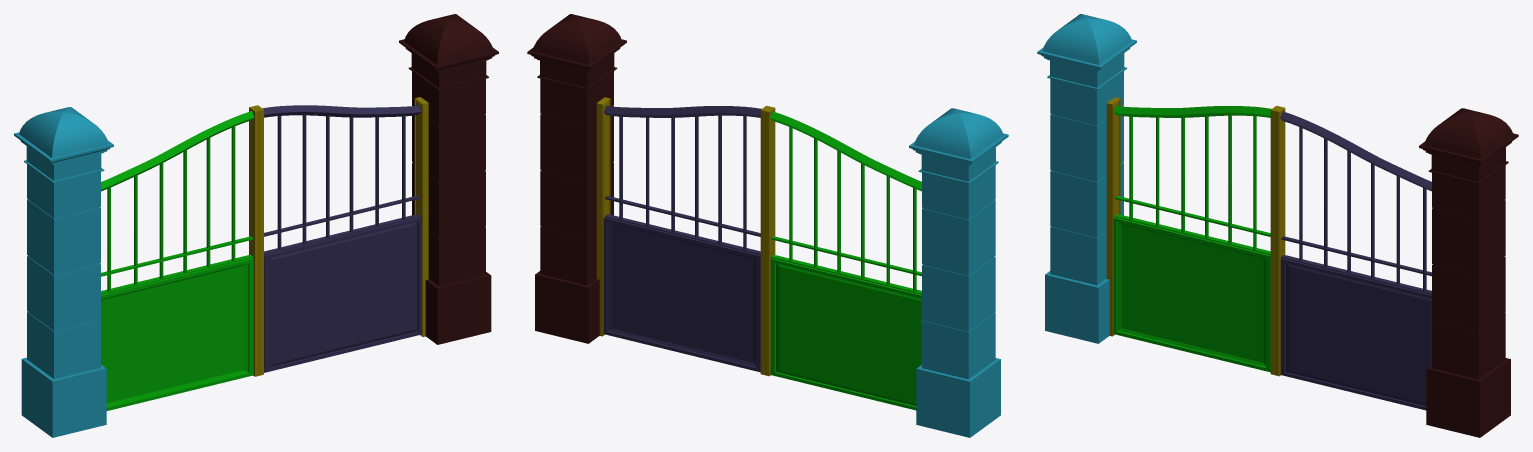
The picture shows the model from 3 angles, left to right: view 1: azimuth 30°, elevation 25°; view 2: azimuth 150°, elevation 25°; view 3: azimuth 330°, elevation 25°; orthographic projection.
Visible parts, largest first — view 1: RightPart, LeftPillar, LeftPart, RightPillar, Pivot (×2); view 2: LeftPillar, RightPart, LeftPart, RightPillar, Pivot (×2); view 3: RightPillar, LeftPart, RightPart, LeftPillar, Pivot (×2).
Boxes of the visible parts, x1,y1,x2,y2 form: RightPart: (263,105,421,372); LeftPillar: (14,107,113,437); LeftPart: (100,111,254,410); RightPillar: (399,14,498,344); Pivot (×2): (249,97,428,376); LeftPillar: (909,108,1008,437); RightPart: (603,105,761,372); LeftPart: (770,111,922,410); RightPillar: (527,14,626,343); Pivot (×2): (596,97,775,376); RightPillar: (1419,108,1518,437); LeftPart: (1113,105,1271,372); RightPart: (1280,111,1432,410); LeftPillar: (1037,14,1136,343); Pivot (×2): (1106,97,1285,376).
Size of the model in its own units: 2 by 1.32 by 0.2913.
